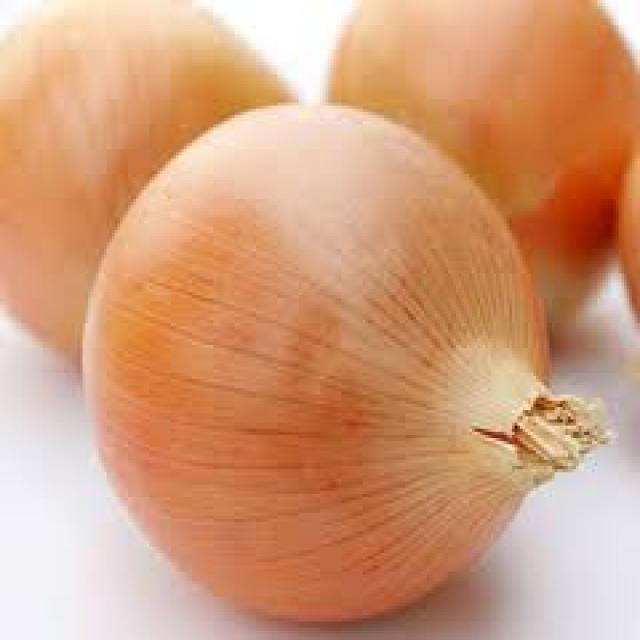onion: (0, 0, 637, 637)
